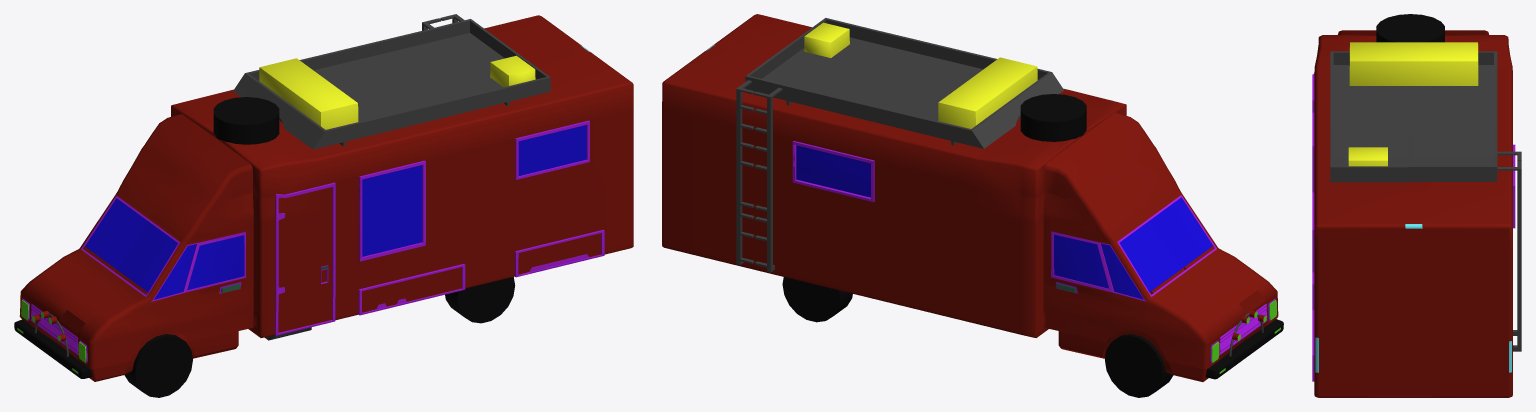
The model's file is Van1_low.fbx.
3 views of the same model, side by side, from view 1: azimuth 30°, elevation 25°; view 2: azimuth 150°, elevation 25°; view 3: azimuth 270°, elevation 25° (orthographic). The views are drawn at different scales.
Parts seen in each view (by area): view 1: Van_Low; view 2: Van_Low; view 3: Van_Low.
Part boxes in pixels (<box>): Van_Low: <box>14,14,633,397</box>; Van_Low: <box>662,14,1283,397</box>; Van_Low: <box>1312,14,1521,397</box>.
Size of the model in its own units: 278 by 117 by 89.12.
